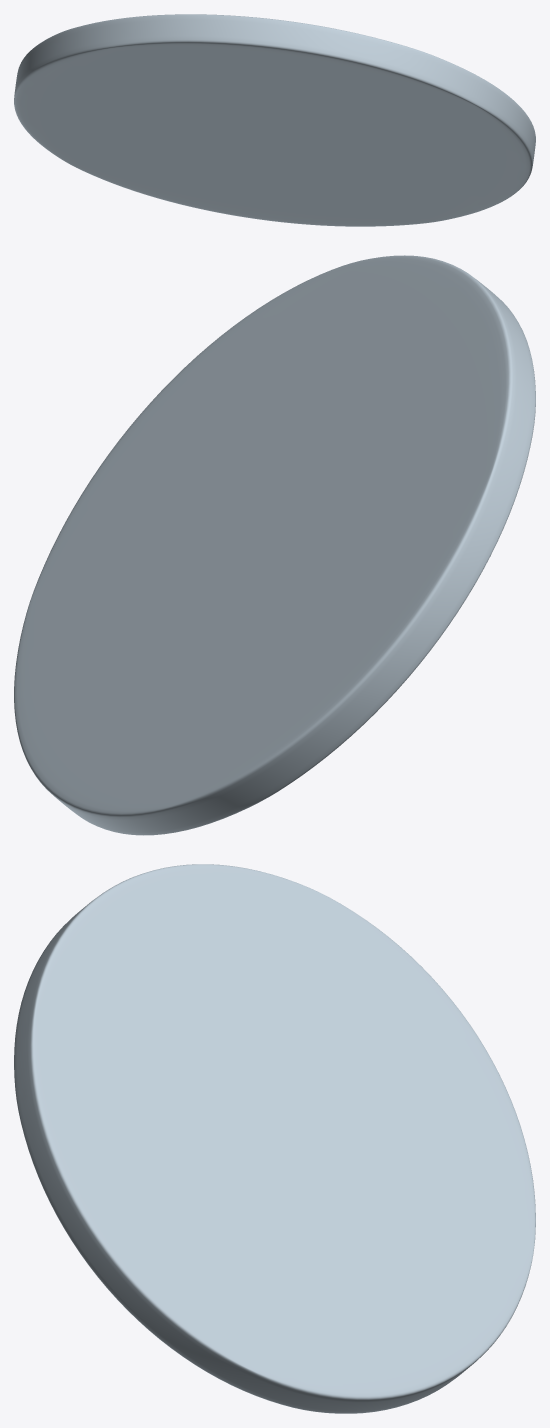
Rendered from coin_single_angled_v2_optimize.glb.
The picture shows the model from 3 angles, top to bottom: view 1: azimuth 30°, elevation 25°; view 2: azimuth 150°, elevation 25°; view 3: azimuth 270°, elevation 25°; orthographic projection. The views are drawn at different scales.
Visible parts, largest first — view 1: Cylinder.047; view 2: Cylinder.047; view 3: Cylinder.047.
Boxes of the visible parts, x1,y1,x2,y2 form: Cylinder.047: [14, 14, 535, 226]; Cylinder.047: [14, 255, 535, 835]; Cylinder.047: [14, 864, 535, 1413].
Size of the model in its own units: 6.2 by 5.05 by 5.91.
